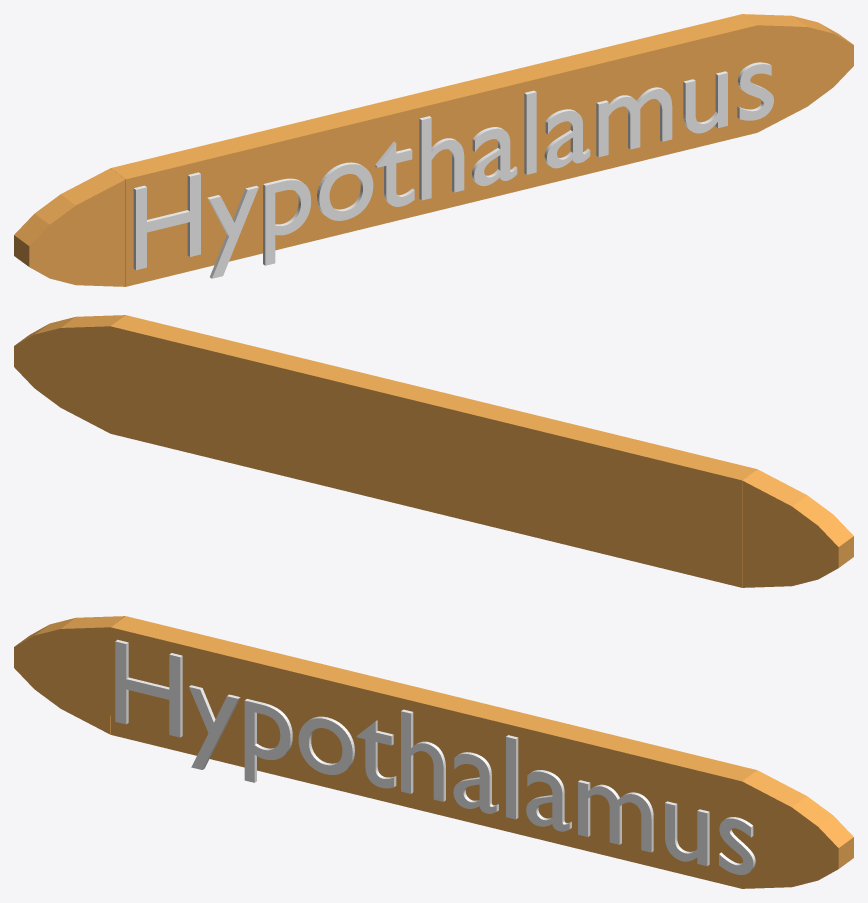
File: txtHypothalamus.fbx
3 views of the same model, one above another, from view 1: azimuth 30°, elevation 25°; view 2: azimuth 150°, elevation 25°; view 3: azimuth 330°, elevation 25° (orthographic).
Parts seen in each view (by area): view 1: TagContainer.031, Text.030; view 2: TagContainer.031; view 3: TagContainer.031, Text.030.
Boxes of the visible parts, x1,y1,x2,y2 form: TagContainer.031: (14, 14, 853, 286); Text.030: (133, 62, 773, 278); TagContainer.031: (14, 315, 853, 587); TagContainer.031: (14, 616, 853, 888); Text.030: (115, 639, 755, 874).
Bounding box in the file's own units: 332 × 45.27 × 12.54.
